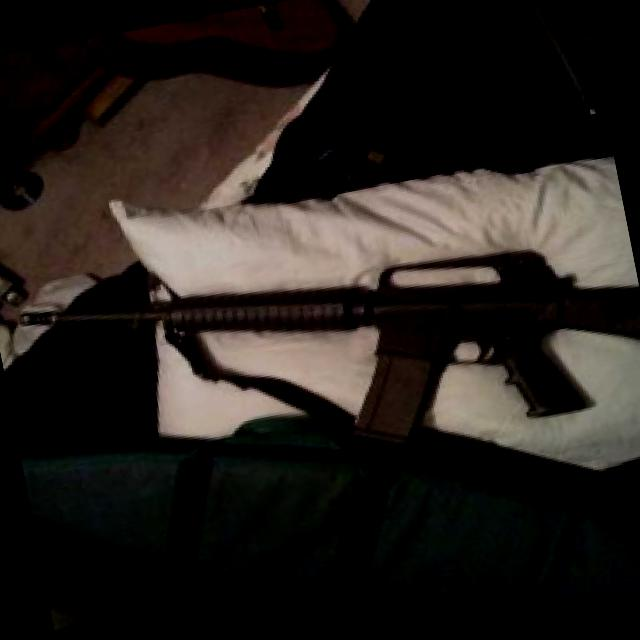long weapon: (10, 169, 639, 493)
